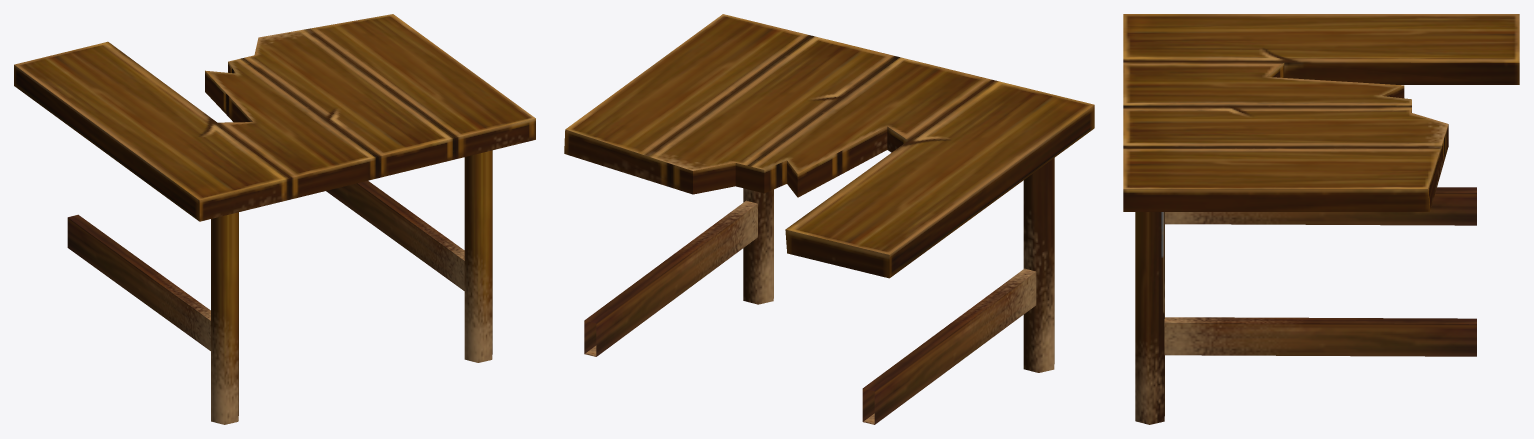
File: tanwei08.FBX
The picture shows the model from 3 angles, left to right: view 1: azimuth 30°, elevation 25°; view 2: azimuth 150°, elevation 25°; view 3: azimuth 270°, elevation 25°; orthographic projection. The views are drawn at different scales.
Visible parts, largest first — view 1: tanwei08; view 2: tanwei08; view 3: tanwei08.
Boxes of the visible parts, x1=… form: tanwei08: x1=14, y1=14, x2=535, y2=424; tanwei08: x1=564, y1=14, x2=1094, y2=424; tanwei08: x1=1123, y1=14, x2=1519, y2=424.
Bounding box in the file's own units: 173 × 116 × 166.
